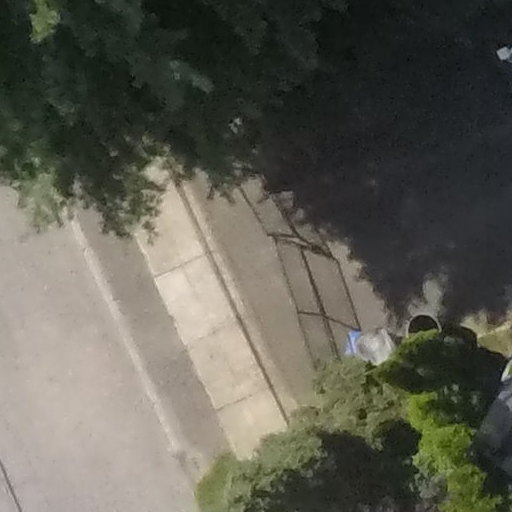trash bin: (403, 312, 443, 344)
